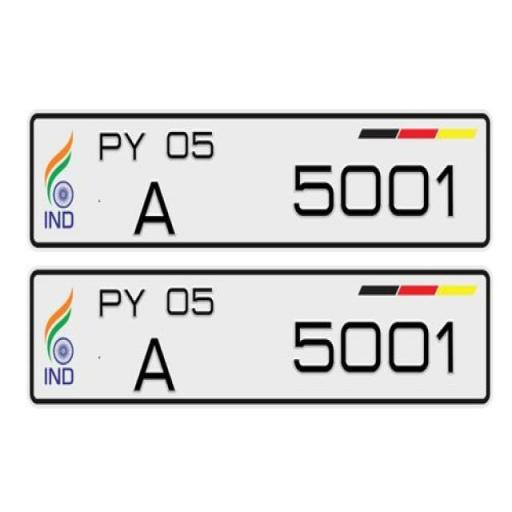number plate: (21, 104, 499, 255), (23, 267, 497, 409)
